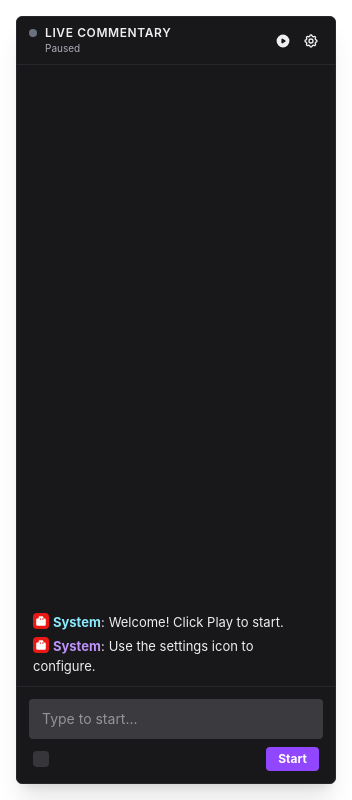
Scenario: LiveCommentary › shows an error message if getDisplayMedia fails
Click the button named "Start commentary". click: (283, 40)
box: [271, 28, 295, 52]
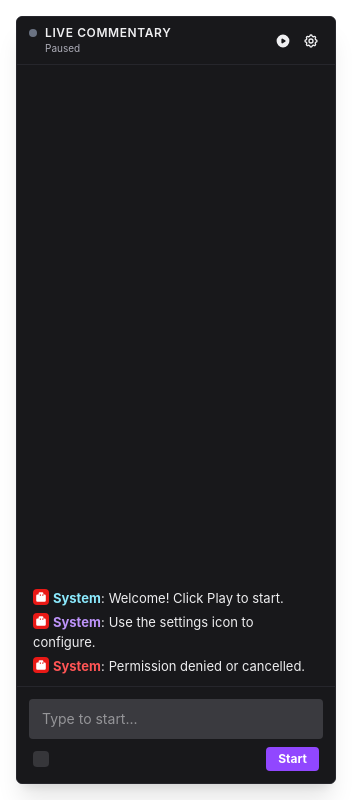
Now the text "Permission denied or cancelled." is shown, box [109, 658, 305, 674]
